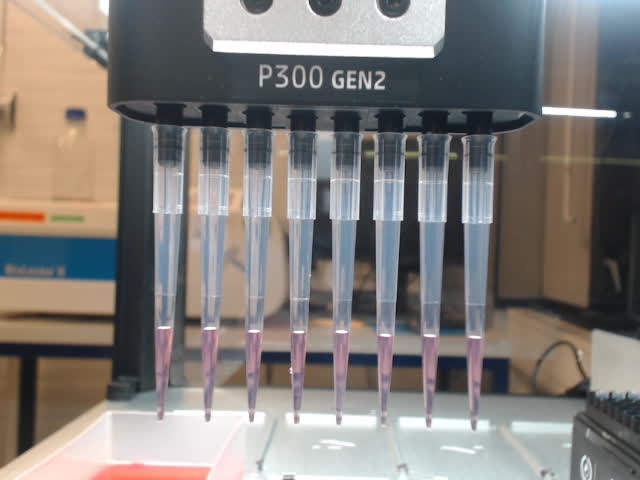Liquid: (418, 331, 447, 428), (462, 332, 490, 432), (150, 322, 177, 423), (330, 327, 356, 427), (198, 324, 224, 423), (288, 327, 313, 425), (373, 331, 398, 426), (244, 325, 268, 423)
Tip: (145, 122, 189, 425), (368, 131, 410, 427), (459, 133, 500, 433), (413, 132, 454, 430), (324, 130, 365, 427), (238, 127, 277, 424), (283, 128, 321, 427), (196, 125, 232, 424)
